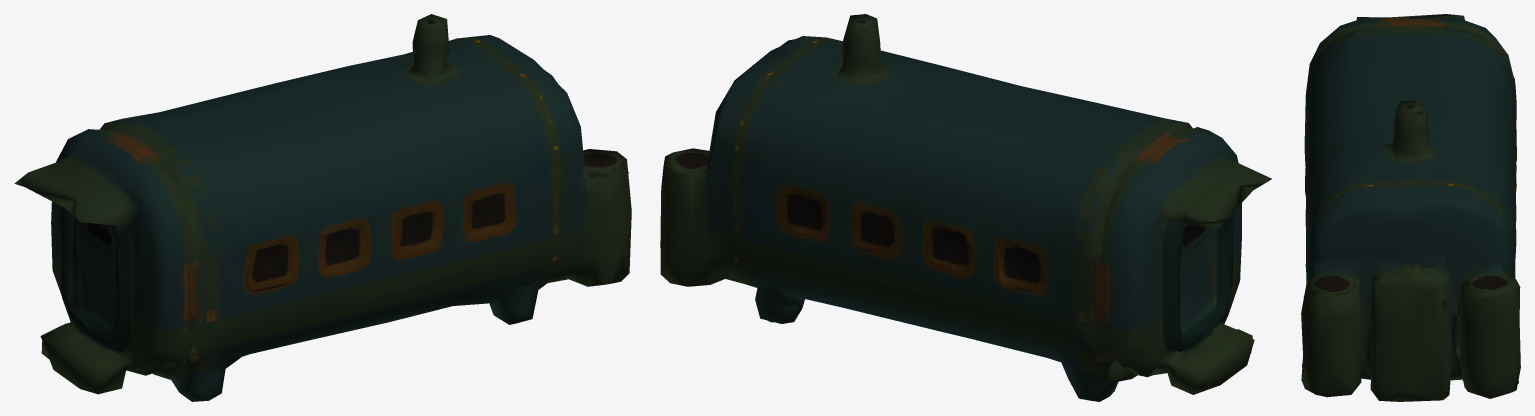
The model's file is modul-tonnelnyy.glb.
The picture shows the model from 3 angles, left to right: view 1: azimuth 30°, elevation 25°; view 2: azimuth 150°, elevation 25°; view 3: azimuth 270°, elevation 25°; orthographic projection. The views are drawn at different scales.
Visible parts, largest first — view 1: geometry_0; view 2: geometry_0; view 3: geometry_0.
Boxes of the visible parts, x1,y1,x2,y2 form: geometry_0: (14,14,631,401); geometry_0: (660,14,1271,401); geometry_0: (1301,14,1520,401).
Size of the model in its own units: 0.9967 by 0.5022 by 0.3901.
1 material, 1 textured.
